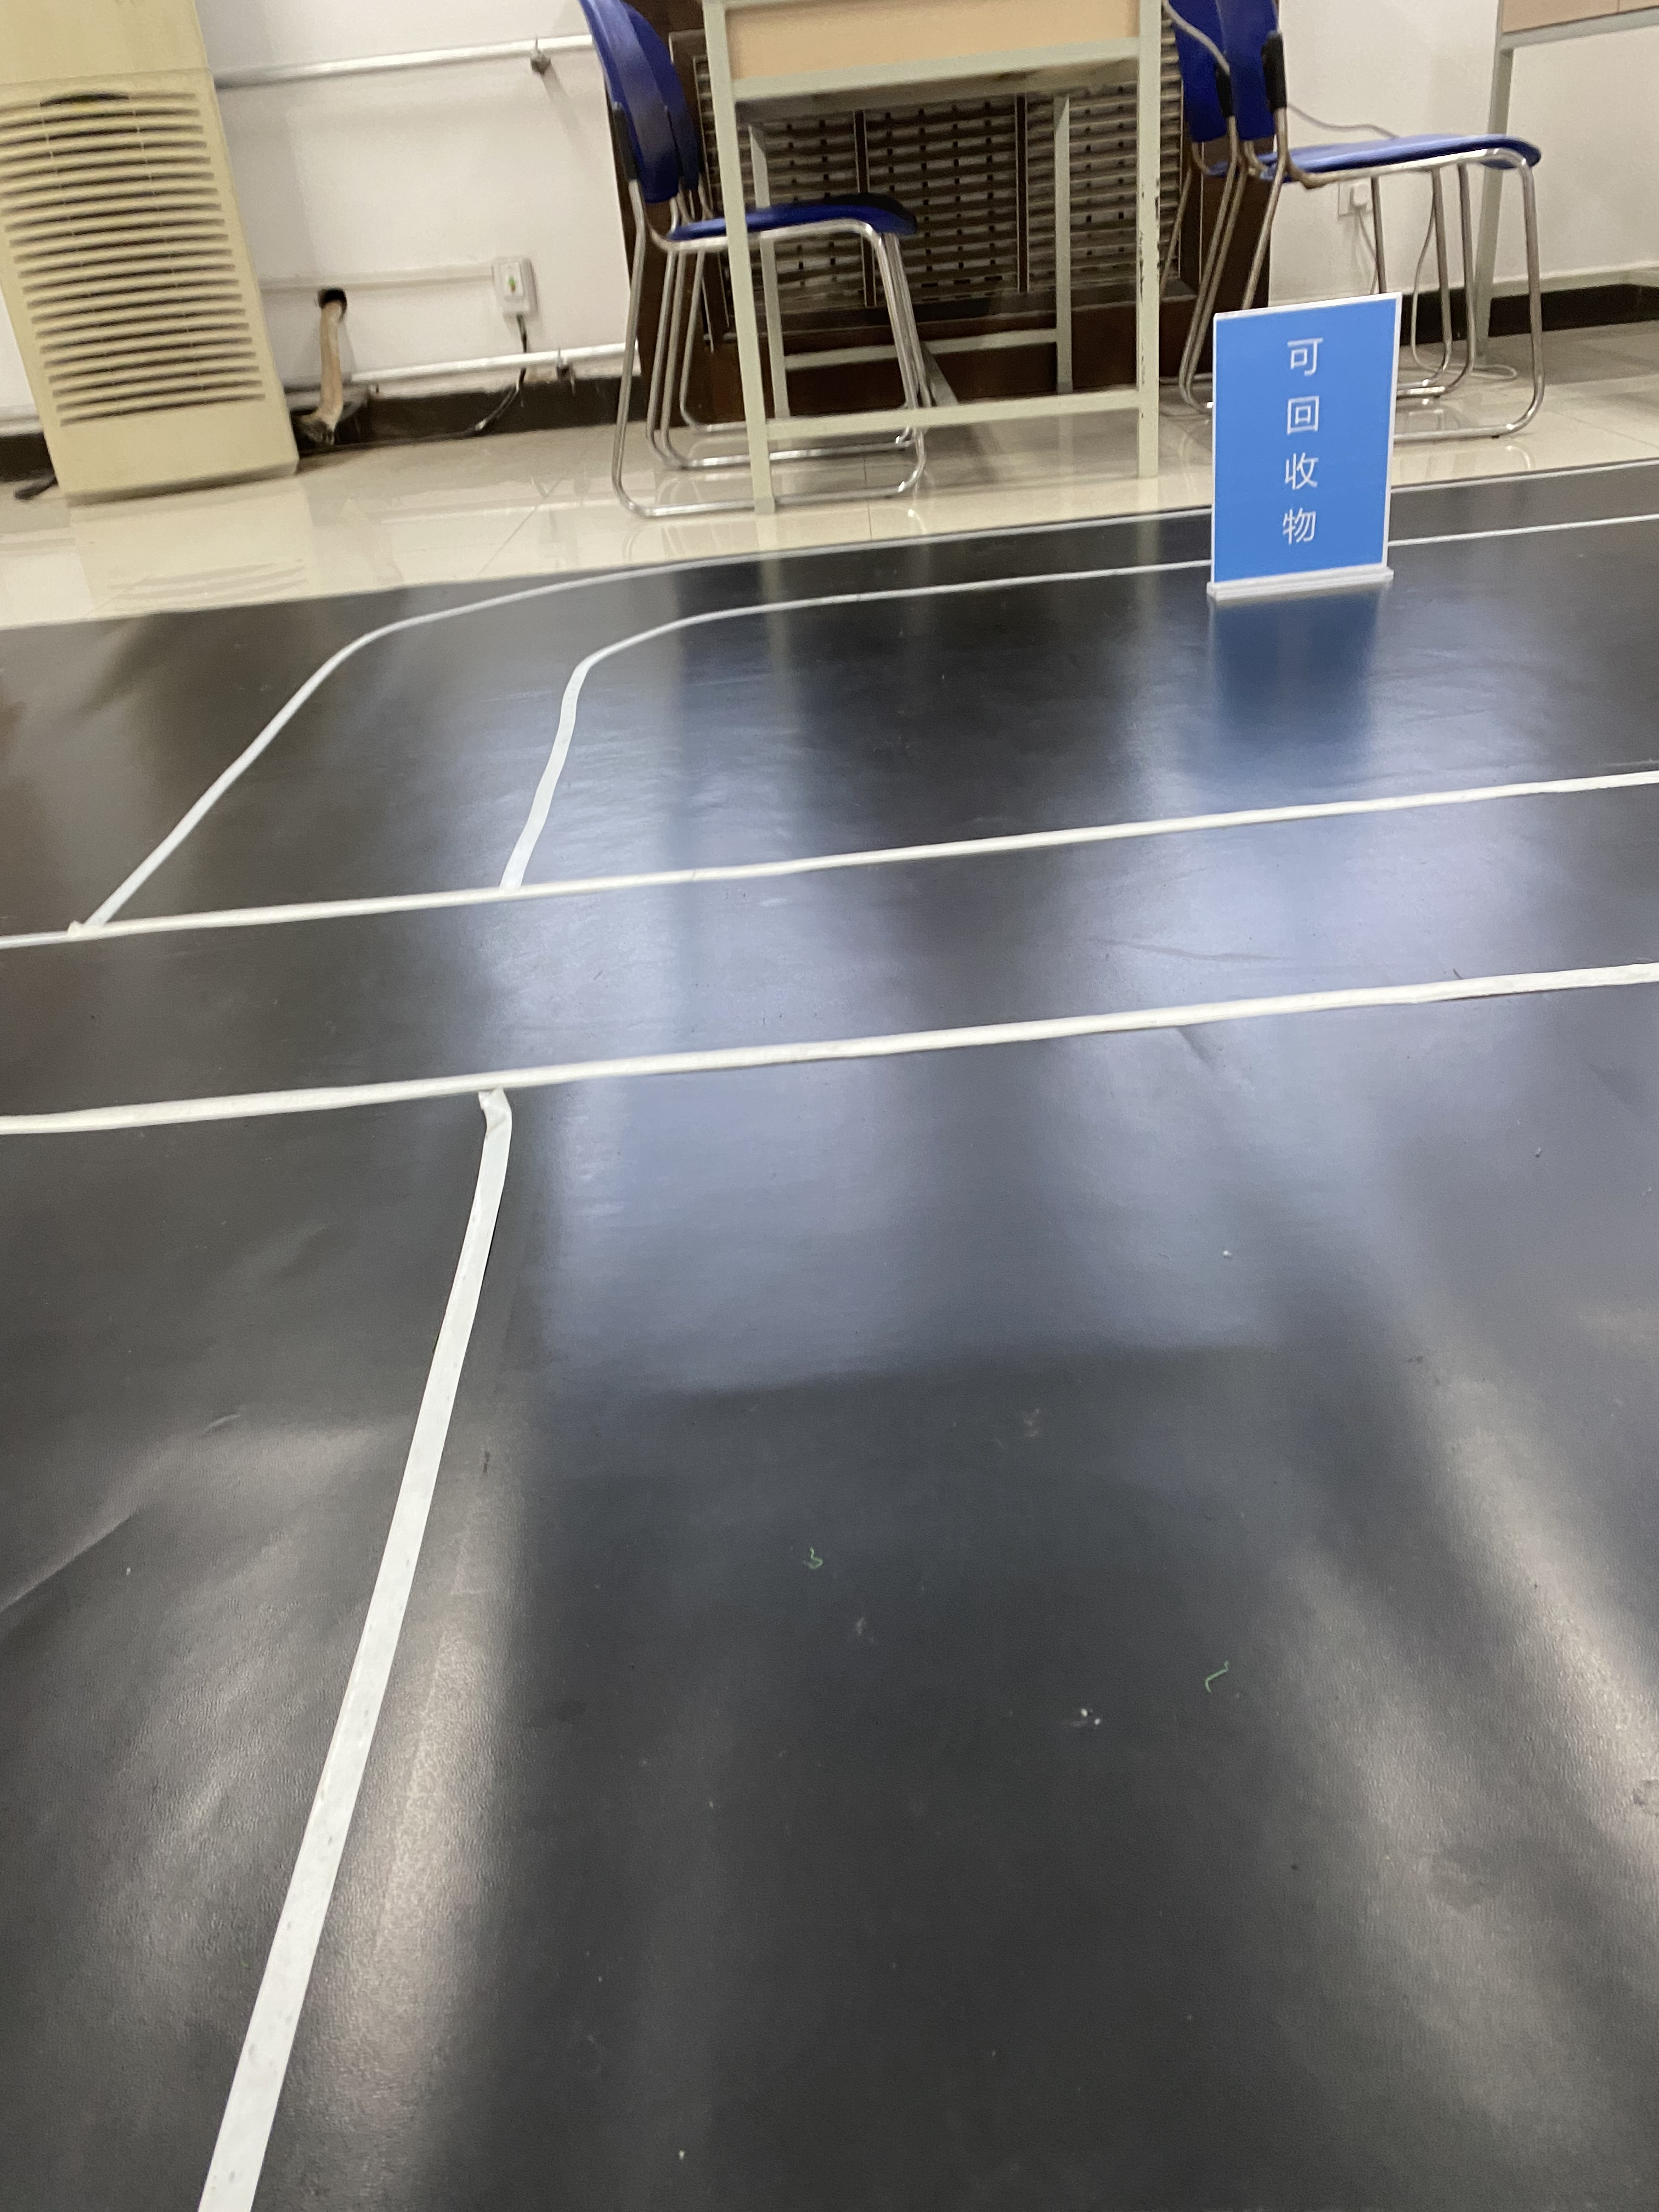blue: (1223, 317, 1387, 566)
